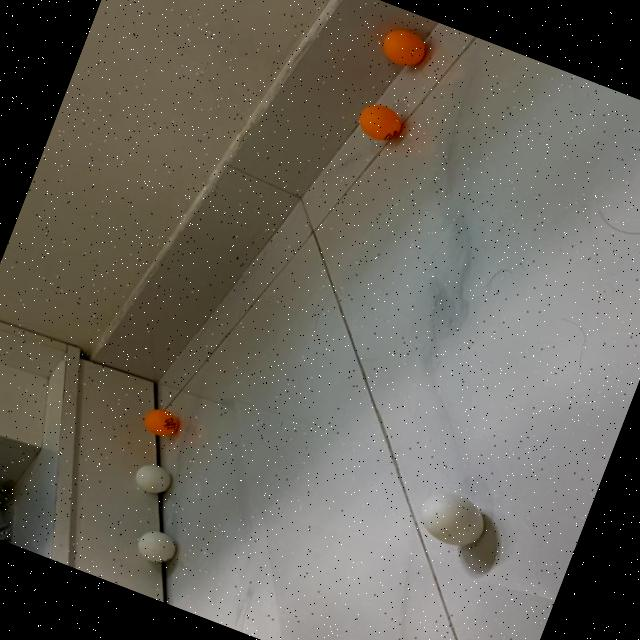ping-pong-ball: (412, 484, 492, 554), (376, 22, 431, 72), (351, 98, 406, 147), (134, 526, 179, 568), (130, 459, 174, 499), (138, 404, 181, 443)
